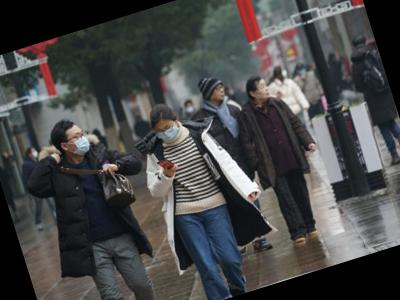with_mask: (65, 127, 95, 159), (154, 119, 183, 145), (30, 148, 42, 162)
without_mask: (254, 80, 272, 101), (211, 83, 229, 101)
